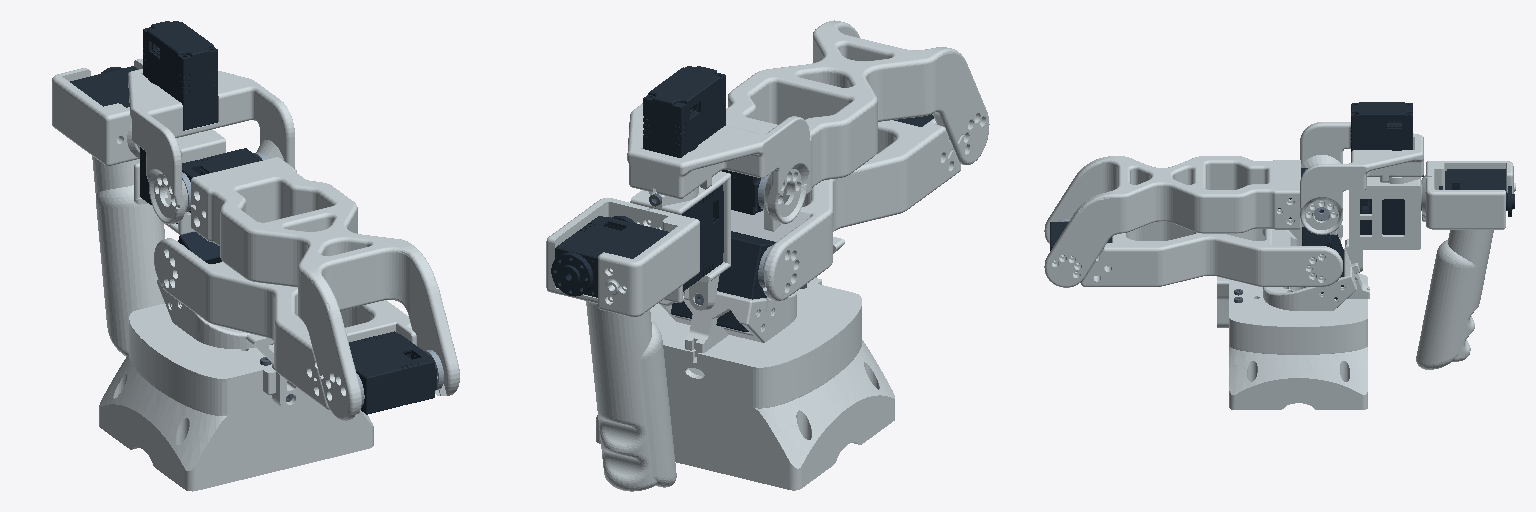
URDF robot description (touch_r1_leader_arm_preview):
<?xml version='1.0' encoding='utf-8'?>
<robot name="touch_r1_leader_arm_preview">
  <!--运动学预览草案：continuous 仅为无已知限位时的可视化表示；不是实机无限旋转声明。未提供惯量、碰撞模型或控制接口。-->
  <link name="base_link">
    <visual name="base_link_structure">
      <origin xyz="0 0 0" rpy="0 0 0" />
      <geometry>
        <mesh filename="meshes/base_link-structure.stl" />
      </geometry>
      <material name="structure">
        <color rgba="0.82 0.86 0.88 1" />
      </material>
    </visual>
    <visual name="base_link_servo">
      <origin xyz="0 0 0" rpy="0 0 0" />
      <geometry>
        <mesh filename="meshes/base_link-servo.stl" />
      </geometry>
      <material name="servo">
        <color rgba="0.18 0.23 0.28 1" />
      </material>
    </visual>
    <visual name="base_link_hardware">
      <origin xyz="0 0 0" rpy="0 0 0" />
      <geometry>
        <mesh filename="meshes/base_link-hardware.stl" />
      </geometry>
      <material name="hardware">
        <color rgba="0.38 0.43 0.48 1" />
      </material>
    </visual>
  </link>
  <link name="link_1">
    <visual name="link_1_structure">
      <origin xyz="0 0 0" rpy="0 0 0" />
      <geometry>
        <mesh filename="meshes/link_1-structure.stl" />
      </geometry>
      <material name="structure">
        <color rgba="0.82 0.86 0.88 1" />
      </material>
    </visual>
    <visual name="link_1_servo">
      <origin xyz="0 0 0" rpy="0 0 0" />
      <geometry>
        <mesh filename="meshes/link_1-servo.stl" />
      </geometry>
      <material name="servo">
        <color rgba="0.18 0.23 0.28 1" />
      </material>
    </visual>
    <visual name="link_1_horn">
      <origin xyz="0 0 0" rpy="0 0 0" />
      <geometry>
        <mesh filename="meshes/link_1-horn.stl" />
      </geometry>
      <material name="horn">
        <color rgba="0.62 0.68 0.73 1" />
      </material>
    </visual>
  </link>
  <link name="link_2">
    <visual name="link_2_structure">
      <origin xyz="0 0 0" rpy="0 0 0" />
      <geometry>
        <mesh filename="meshes/link_2-structure.stl" />
      </geometry>
      <material name="structure">
        <color rgba="0.82 0.86 0.88 1" />
      </material>
    </visual>
    <visual name="link_2_servo">
      <origin xyz="0 0 0" rpy="0 0 0" />
      <geometry>
        <mesh filename="meshes/link_2-servo.stl" />
      </geometry>
      <material name="servo">
        <color rgba="0.18 0.23 0.28 1" />
      </material>
    </visual>
    <visual name="link_2_horn">
      <origin xyz="0 0 0" rpy="0 0 0" />
      <geometry>
        <mesh filename="meshes/link_2-horn.stl" />
      </geometry>
      <material name="horn">
        <color rgba="0.62 0.68 0.73 1" />
      </material>
    </visual>
  </link>
  <link name="link_3">
    <visual name="link_3_structure">
      <origin xyz="0 0 0" rpy="0 0 0" />
      <geometry>
        <mesh filename="meshes/link_3-structure.stl" />
      </geometry>
      <material name="structure">
        <color rgba="0.82 0.86 0.88 1" />
      </material>
    </visual>
    <visual name="link_3_servo">
      <origin xyz="0 0 0" rpy="0 0 0" />
      <geometry>
        <mesh filename="meshes/link_3-servo.stl" />
      </geometry>
      <material name="servo">
        <color rgba="0.18 0.23 0.28 1" />
      </material>
    </visual>
    <visual name="link_3_horn">
      <origin xyz="0 0 0" rpy="0 0 0" />
      <geometry>
        <mesh filename="meshes/link_3-horn.stl" />
      </geometry>
      <material name="horn">
        <color rgba="0.62 0.68 0.73 1" />
      </material>
    </visual>
  </link>
  <link name="link_4">
    <visual name="link_4_structure">
      <origin xyz="0 0 0" rpy="0 0 0" />
      <geometry>
        <mesh filename="meshes/link_4-structure.stl" />
      </geometry>
      <material name="structure">
        <color rgba="0.82 0.86 0.88 1" />
      </material>
    </visual>
    <visual name="link_4_servo">
      <origin xyz="0 0 0" rpy="0 0 0" />
      <geometry>
        <mesh filename="meshes/link_4-servo.stl" />
      </geometry>
      <material name="servo">
        <color rgba="0.18 0.23 0.28 1" />
      </material>
    </visual>
    <visual name="link_4_horn">
      <origin xyz="0 0 0" rpy="0 0 0" />
      <geometry>
        <mesh filename="meshes/link_4-horn.stl" />
      </geometry>
      <material name="horn">
        <color rgba="0.62 0.68 0.73 1" />
      </material>
    </visual>
  </link>
  <link name="link_5">
    <visual name="link_5_structure">
      <origin xyz="0 0 0" rpy="0 0 0" />
      <geometry>
        <mesh filename="meshes/link_5-structure.stl" />
      </geometry>
      <material name="structure">
        <color rgba="0.82 0.86 0.88 1" />
      </material>
    </visual>
    <visual name="link_5_servo">
      <origin xyz="0 0 0" rpy="0 0 0" />
      <geometry>
        <mesh filename="meshes/link_5-servo.stl" />
      </geometry>
      <material name="servo">
        <color rgba="0.18 0.23 0.28 1" />
      </material>
    </visual>
    <visual name="link_5_horn">
      <origin xyz="0 0 0" rpy="0 0 0" />
      <geometry>
        <mesh filename="meshes/link_5-horn.stl" />
      </geometry>
      <material name="horn">
        <color rgba="0.62 0.68 0.73 1" />
      </material>
    </visual>
    <visual name="link_5_hardware">
      <origin xyz="0 0 0" rpy="0 0 0" />
      <geometry>
        <mesh filename="meshes/link_5-hardware.stl" />
      </geometry>
      <material name="hardware">
        <color rgba="0.38 0.43 0.48 1" />
      </material>
    </visual>
  </link>
  <link name="link_6">
    <visual name="link_6_structure">
      <origin xyz="0 0 0" rpy="0 0 0" />
      <geometry>
        <mesh filename="meshes/link_6-structure.stl" />
      </geometry>
      <material name="structure">
        <color rgba="0.82 0.86 0.88 1" />
      </material>
    </visual>
    <visual name="link_6_horn">
      <origin xyz="0 0 0" rpy="0 0 0" />
      <geometry>
        <mesh filename="meshes/link_6-horn.stl" />
      </geometry>
      <material name="horn">
        <color rgba="0.62 0.68 0.73 1" />
      </material>
    </visual>
    <visual name="link_6_gripper_servo">
      <origin xyz="0 0 0" rpy="0 0 0" />
      <geometry>
        <mesh filename="meshes/link_6-gripper-servo.stl" />
      </geometry>
      <material name="servo">
        <color rgba="0.18 0.23 0.28 1" />
      </material>
    </visual>
  </link>
  <joint name="joint_1" type="continuous">
    <parent link="base_link" />
    <child link="link_1" />
    <origin xyz="-0 -5e-06 0.053656545" rpy="0 0 0" />
    <axis xyz="-0 0 1" />
  </joint>
  <joint name="joint_2" type="continuous">
    <parent link="link_1" />
    <child link="link_2" />
    <origin xyz="-0.0001311964 0.0149401465 0.0371079012" rpy="0 0 0" />
    <axis xyz="1 0 -0" />
  </joint>
  <joint name="joint_3" type="continuous">
    <parent link="link_2" />
    <child link="link_3" />
    <origin xyz="-9.99997e-05 -0.165625 0" rpy="0 0 0" />
    <axis xyz="1 2.2e-09 0" />
  </joint>
  <joint name="joint_4" type="continuous">
    <parent link="link_3" />
    <child link="link_4" />
    <origin xyz="0.0003623925 0.165625 0.03875" rpy="0 0 0" />
    <axis xyz="1 2.2e-09 0" />
  </joint>
  <joint name="joint_5" type="continuous">
    <parent link="link_4" />
    <child link="link_5" />
    <origin xyz="-0.0002311965 0.048745 0.019343455" rpy="0 0 0" />
    <axis xyz="-0 0 1" />
  </joint>
  <joint name="joint_6" type="continuous">
    <parent link="link_5" />
    <child link="link_6" />
    <origin xyz="-0 0.015046545 -0.020098455" rpy="0 0 0" />
    <axis xyz="2.2e-09 -1 0" />
  </joint>
</robot>

--- What the picture shows (computed from the rendered views, not written in the file) ---
The picture shows the robot from 3 angles, left to right: view 1: azimuth 30°, elevation 25°; view 2: azimuth 150°, elevation 25°; view 3: azimuth 270°, elevation 25°; orthographic projection.
Model touch_r1_leader_arm_preview with 7 links and 6 joints (6 continuous), rooted at base_link, posed all joints at 0.
Links seen in each view (by area): view 1: link_3, base_link, link_2, link_4, link_6, link_1, link_5; view 2: base_link, link_6, link_3, link_4, link_2, link_1, link_5; view 3: link_3, base_link, link_6, link_2, link_4, link_5, link_1.
Boxes of the visible links, <box> form: link_3: <box>182,148,459,420</box>; base_link: <box>99,304,373,491</box>; link_2: <box>154,238,436,414</box>; link_4: <box>128,21,294,224</box>; link_6: <box>52,59,164,356</box>; link_1: <box>157,232,254,348</box>; link_5: <box>134,129,225,234</box>; base_link: <box>596,237,894,490</box>; link_6: <box>546,198,699,491</box>; link_3: <box>722,20,989,214</box>; link_4: <box>627,66,809,231</box>; link_2: <box>731,114,960,300</box>; link_1: <box>659,231,796,352</box>; link_5: <box>630,171,730,302</box>; link_3: <box>1044,156,1323,287</box>; base_link: <box>1217,239,1367,409</box>; link_6: <box>1416,161,1515,369</box>; link_2: <box>1050,222,1342,286</box>; link_4: <box>1300,102,1423,234</box>; link_5: <box>1349,175,1423,249</box>; link_1: <box>1263,227,1369,310</box>.
Bounding box of the posed robot: 0.105 × 0.3051 × 0.1915 m (x, y, z).
Meshes: 22 distinct files referenced, 22 mesh visuals loaded (22 binary STL).
